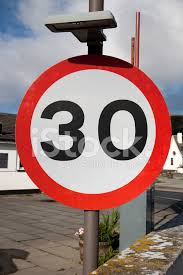Speed_limit_30km: (16, 54, 172, 210)
